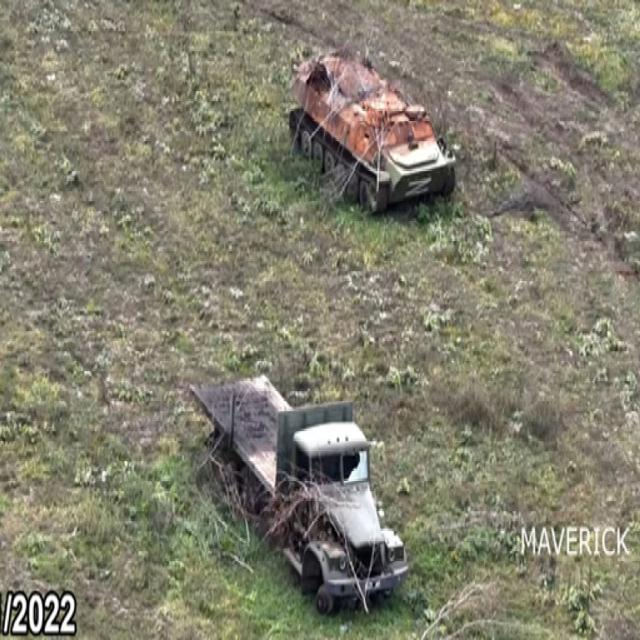APC-IFV: (278, 27, 458, 220)
TRUCK: (184, 354, 410, 614)
